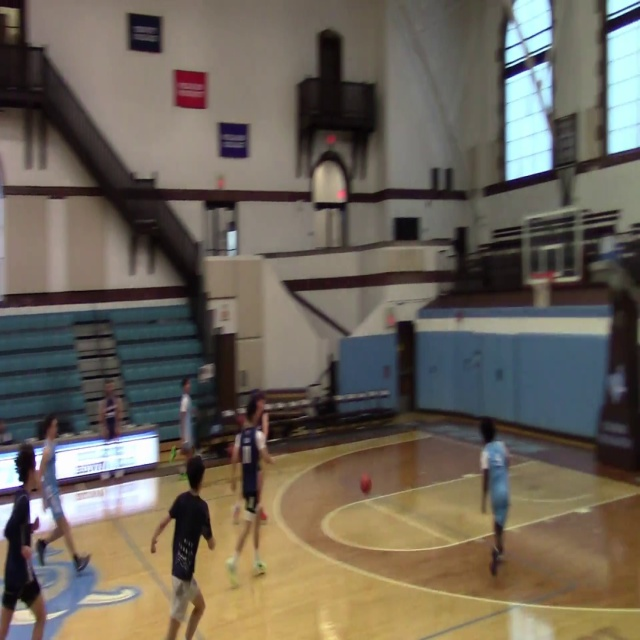Basketball: (360, 473, 372, 493)
